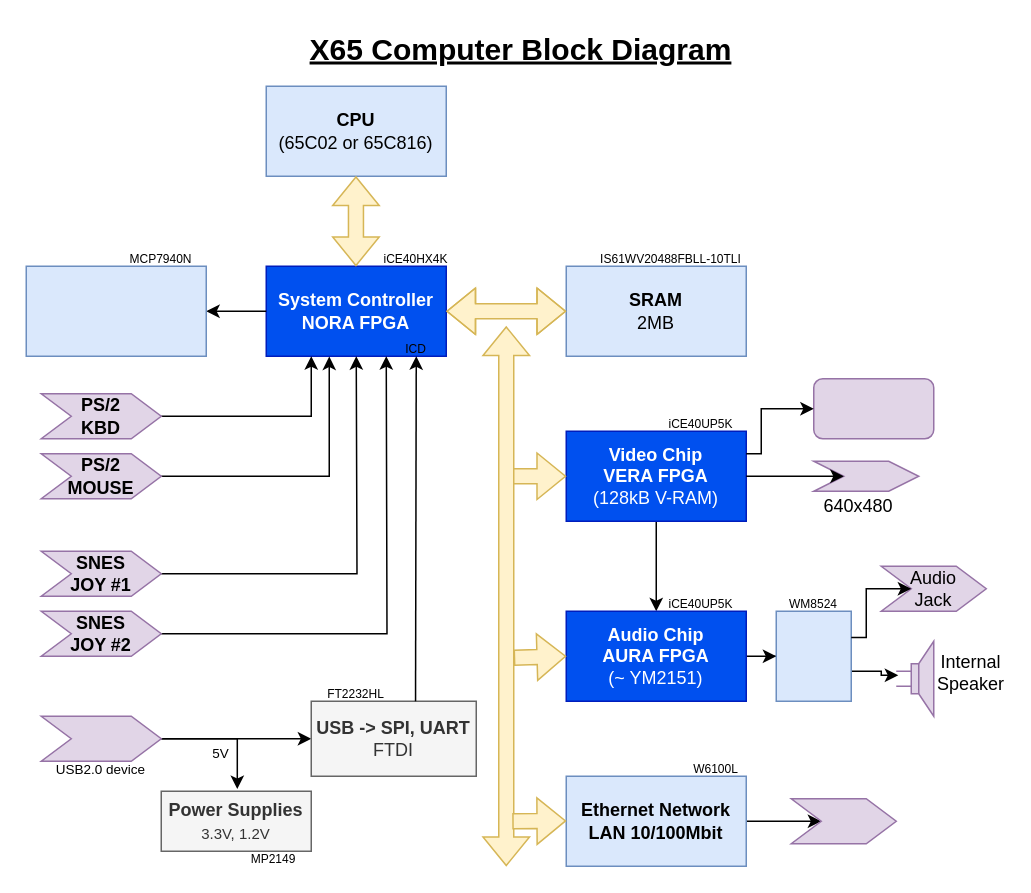
The diagram is 1031 pixels wide and 893 high, and some of its shapes have lost their labels. Each missing label, with the box of its shape:
Audio DAC: (775, 610, 851, 701)
Real-Time Clock with battery backup: (25, 265, 206, 356)
RJ45: (790, 797, 896, 844)
SD-Card Slot: (812, 377, 934, 439)
USB-C in.: (40, 715, 161, 761)
VGA: (812, 460, 919, 491)
